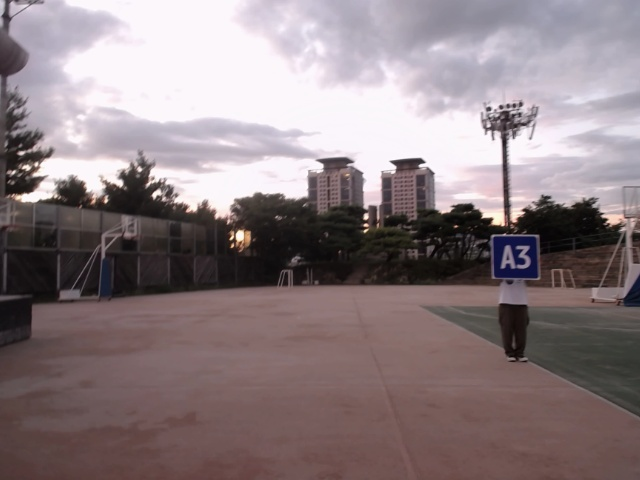delivery_a3: (490, 235, 539, 281)
